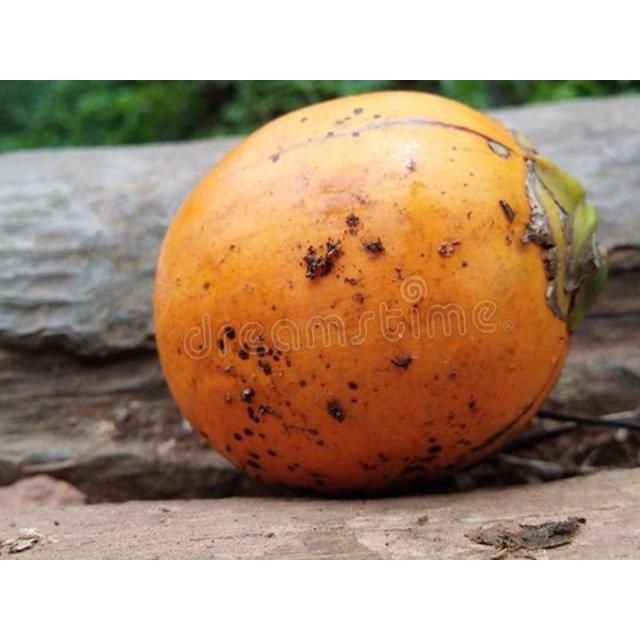good: (151, 90, 607, 500)
